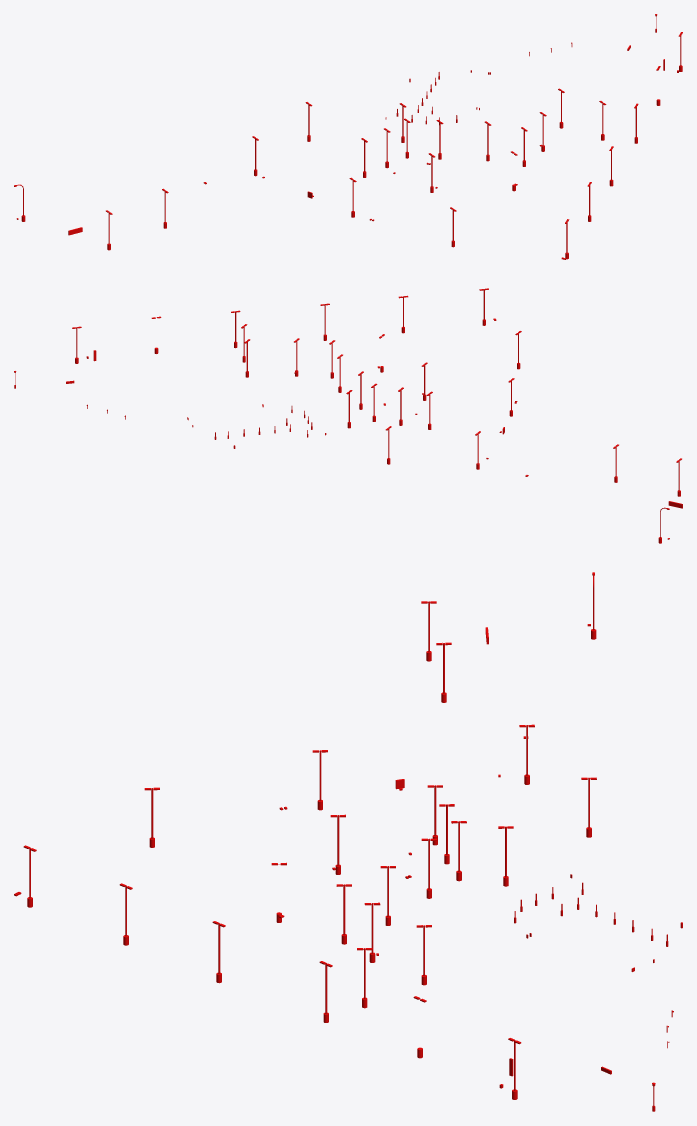
Rendered from 1659ff19-e78b-4ccc-9905-25029ea1ebb1.glb.
The picture shows the model from 3 angles, top to bottom: view 1: azimuth 30°, elevation 25°; view 2: azimuth 150°, elevation 25°; view 3: azimuth 270°, elevation 25°; orthographic projection. The views are drawn at different scales.
Bounding box in the file's own units: 197 × 14.94 × 110.
